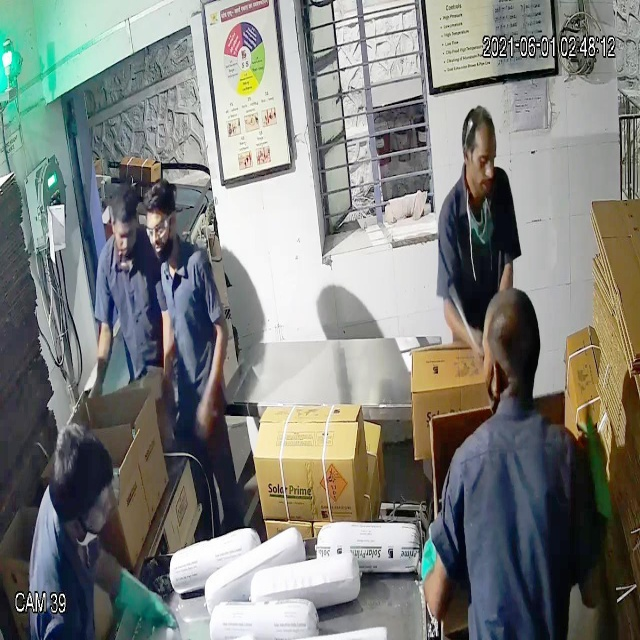Gafas: (142, 212, 178, 244)
Sin_gafas: (457, 145, 502, 178)
